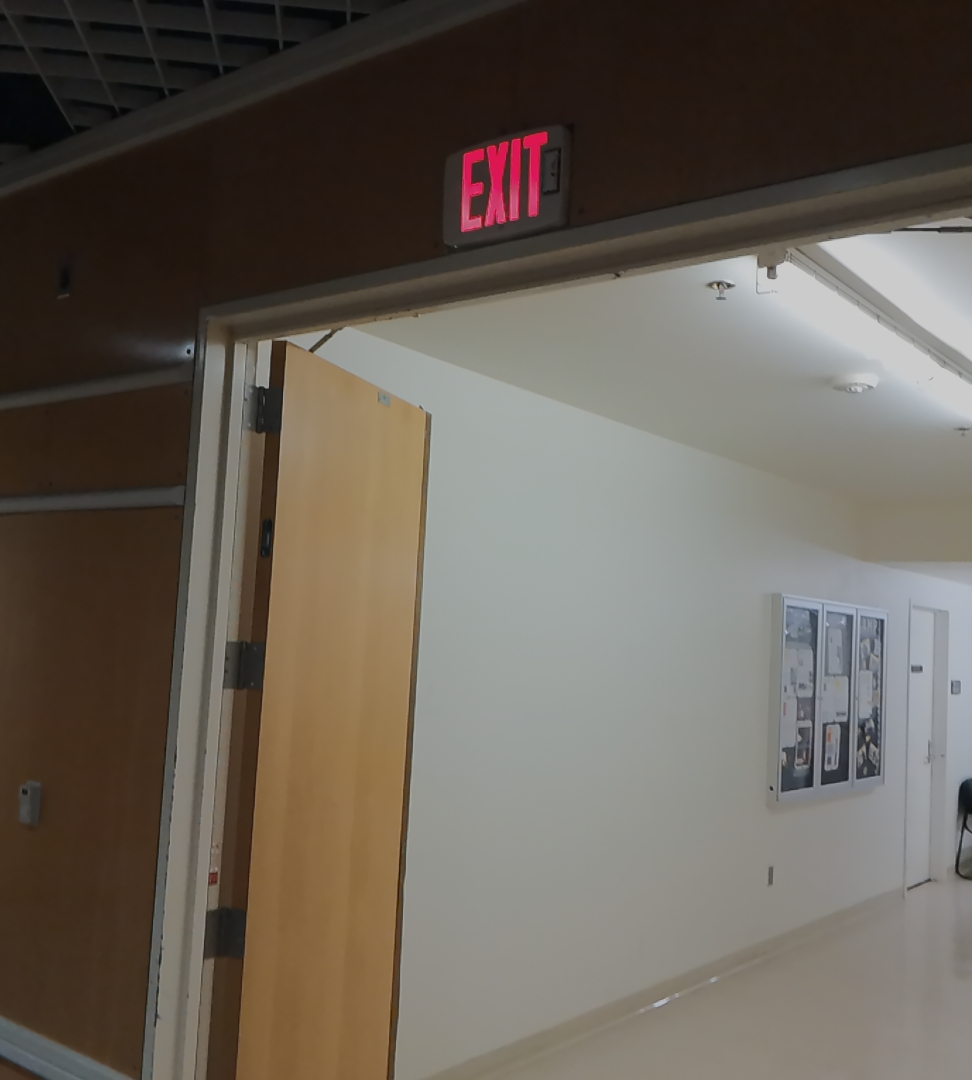emergency_exit: (440, 122, 573, 249)
